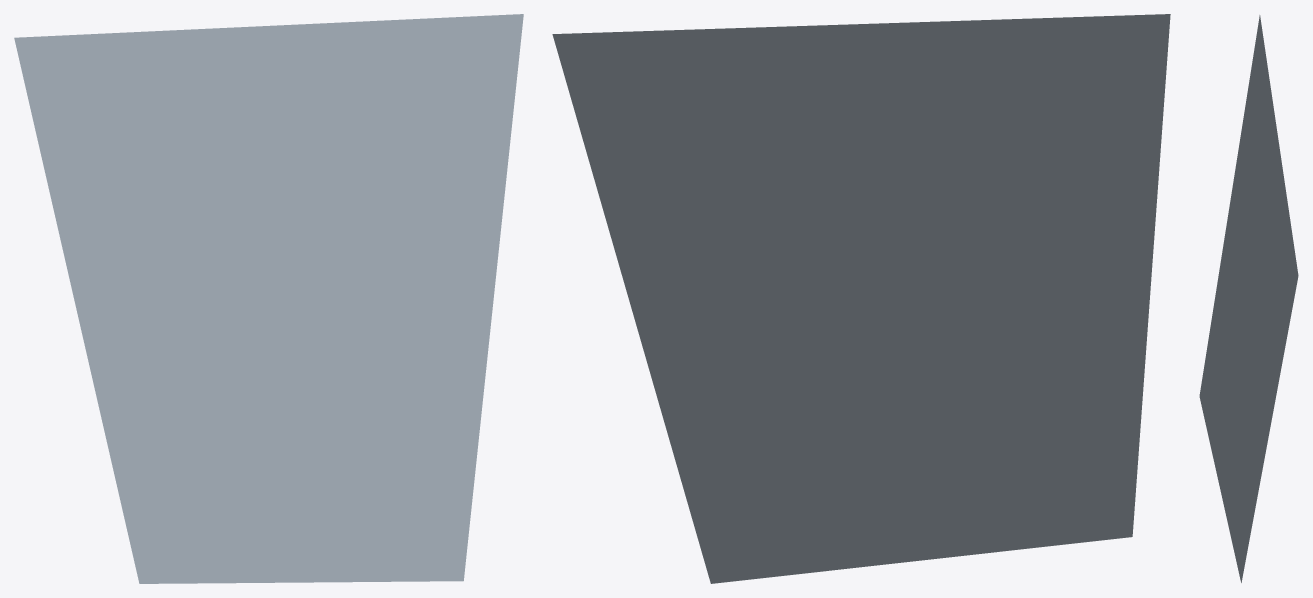
Rendered from scaphocapitate-ligament-l.glb.
The picture shows the model from 3 angles, left to right: view 1: azimuth 30°, elevation 25°; view 2: azimuth 150°, elevation 25°; view 3: azimuth 270°, elevation 25°; orthographic projection. The views are drawn at different scales.
Parts seen in each view (by area): view 1: Scaphocapitate ligament.l; view 2: Scaphocapitate ligament.l; view 3: Scaphocapitate ligament.l.
Boxes of the visible parts, bbox=[...] form: Scaphocapitate ligament.l: bbox=[14, 14, 523, 583]; Scaphocapitate ligament.l: bbox=[552, 14, 1170, 583]; Scaphocapitate ligament.l: bbox=[1199, 15, 1298, 582].
Size of the model in its own units: 0.00456 by 0.00517 by 0.00109.
